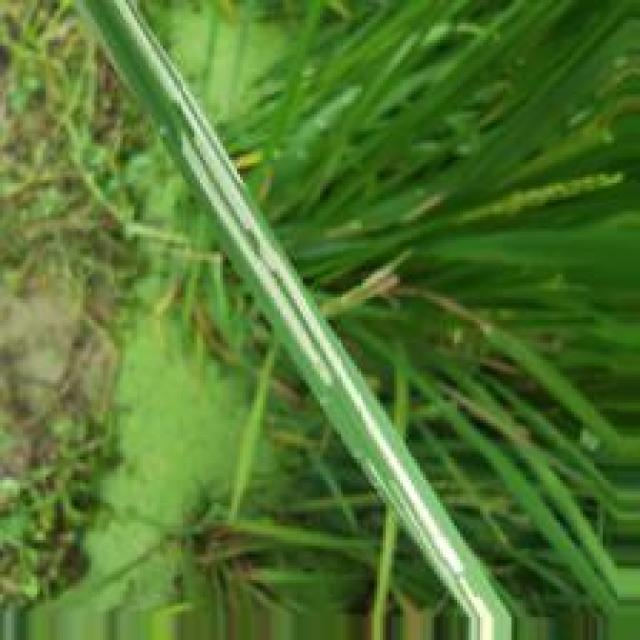Rice_Hispa: (115, 3, 496, 640)
